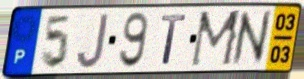5: (38, 13, 74, 71)
9: (118, 10, 151, 71)
J: (75, 12, 111, 71)
M: (188, 8, 244, 70)
N: (230, 7, 273, 69)
T: (159, 12, 189, 66)
